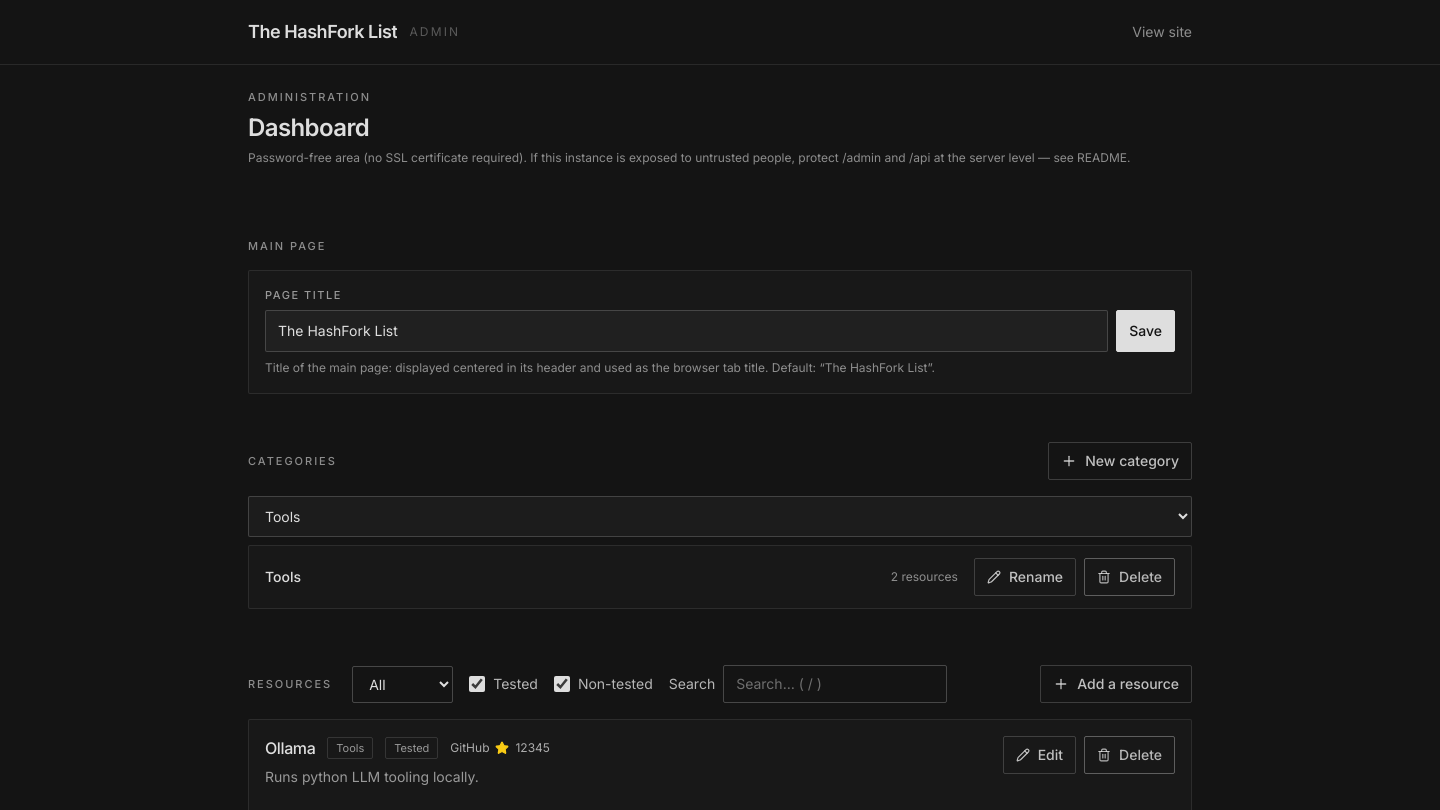
Test: Admin — filtering behaves like the main page › combines category + status + search at once
The width and height of the screenshot is (1440, 810).
Select "Security" in the dropdown named "Filter by category" in the row of "Non-tested" at (403, 684), box left=352, top=666, right=453, bottom=702
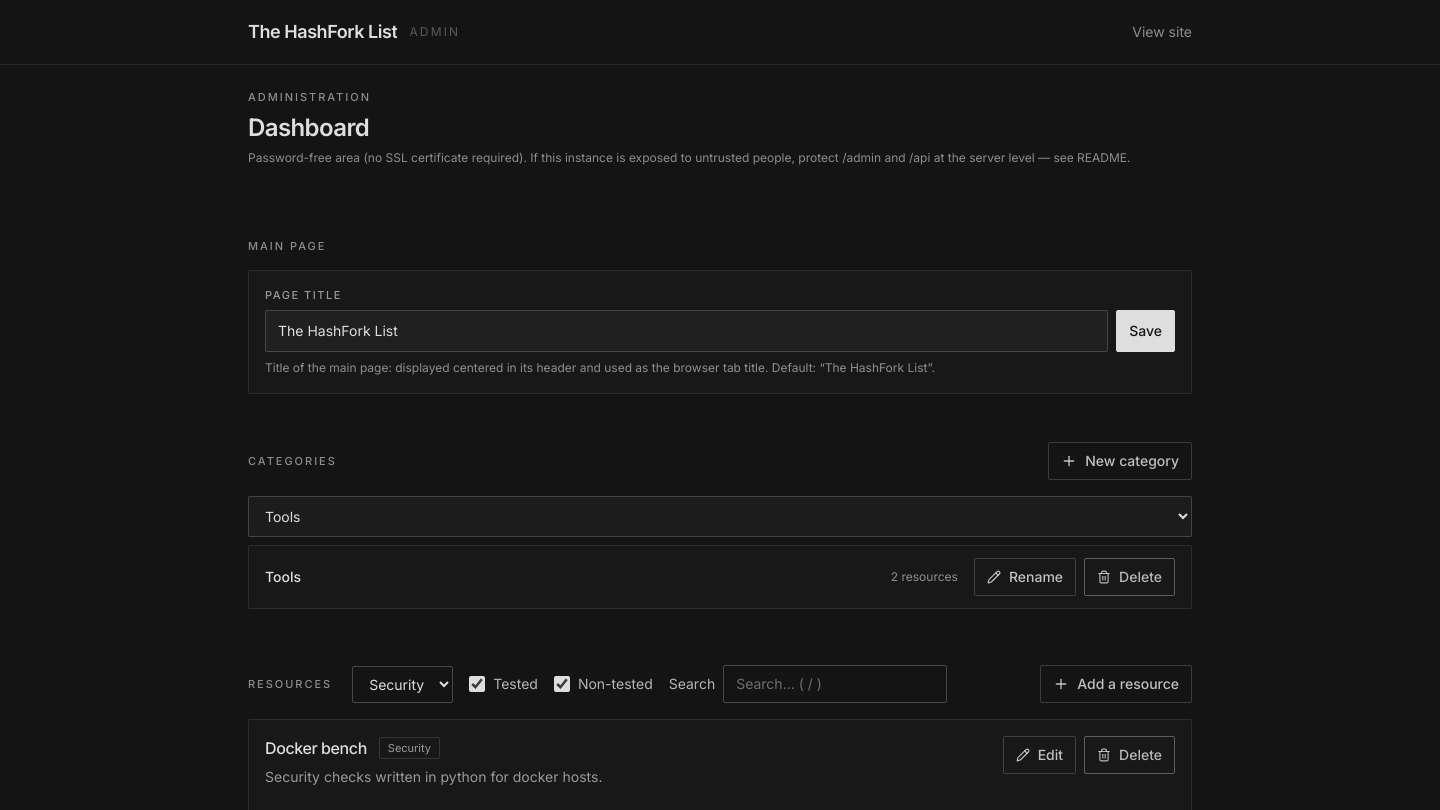
Click the checkbox labelled "Non-tested".
click(562, 684)  # box left=554, top=676, right=570, bottom=692
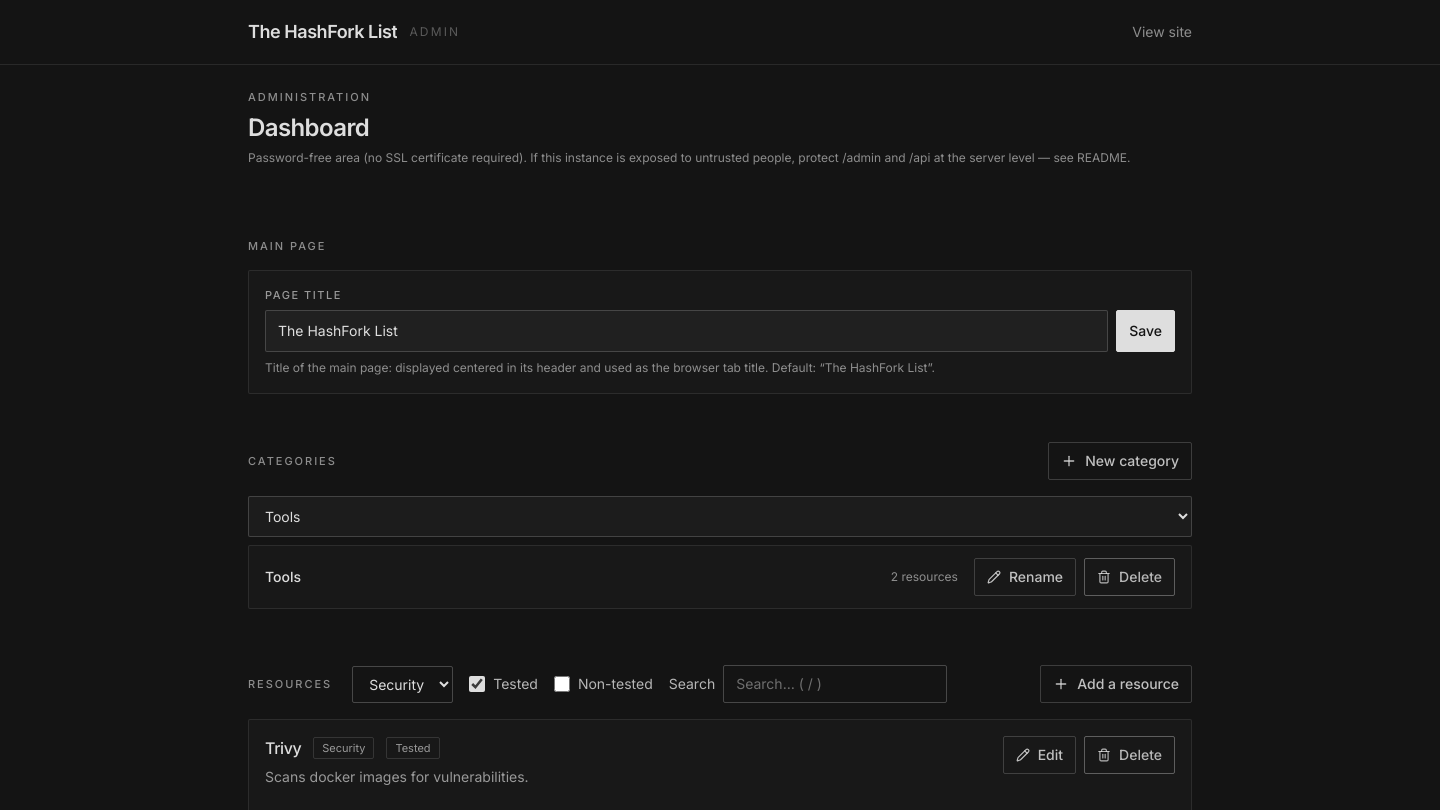
Type "python" into the field labelled "Search".
click(835, 684); type("python")  # box left=723, top=665, right=947, bottom=703
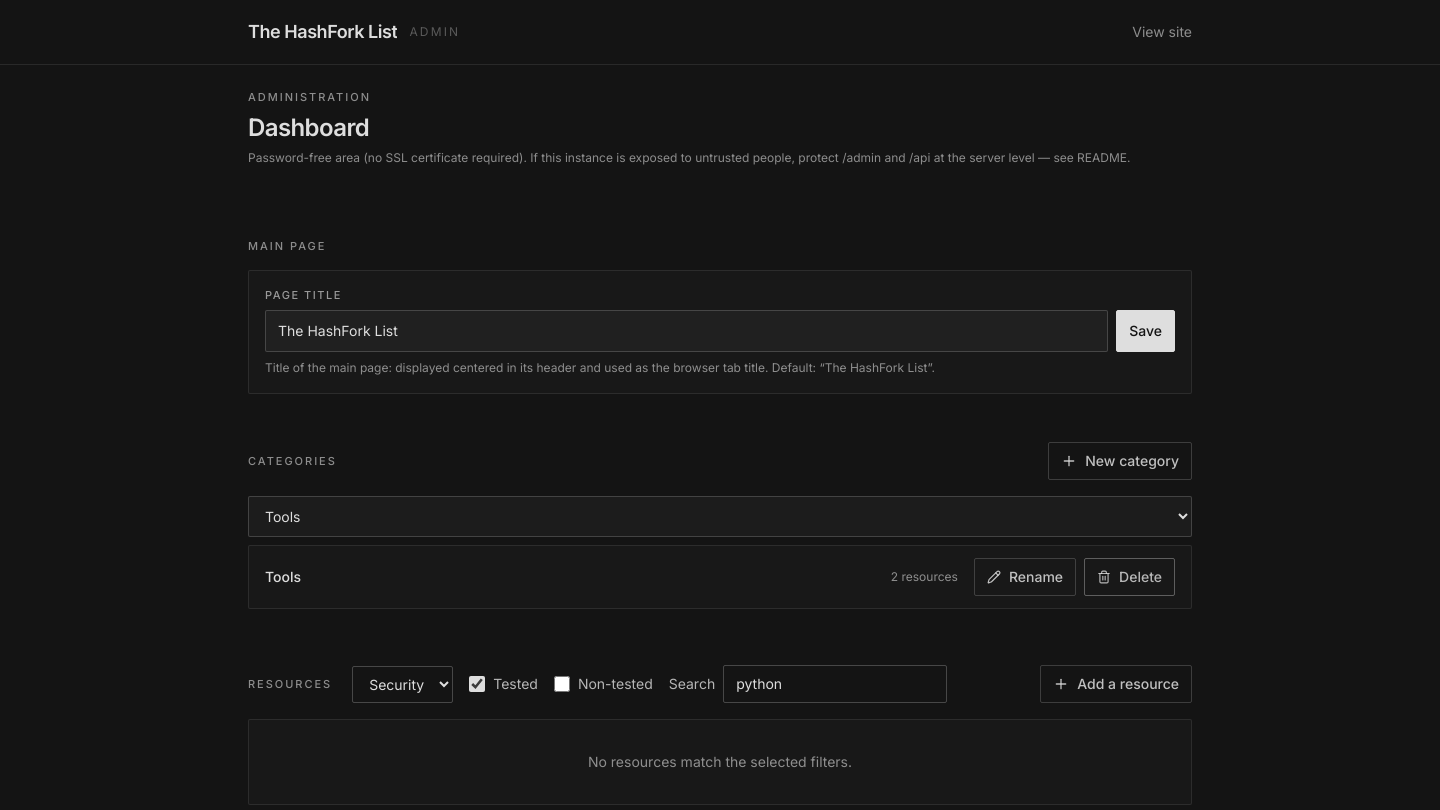
Expected: the text "No resources match the selected filters." is shown, left=248, top=719, right=1192, bottom=805
